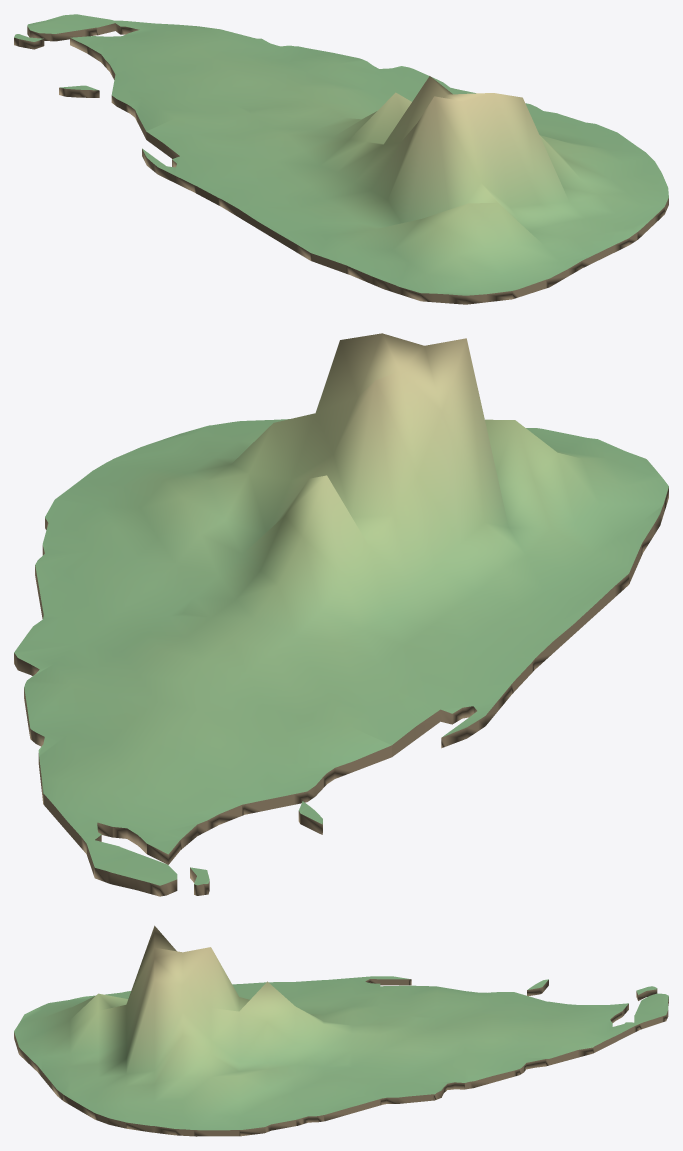
The model's file is LKA.glb.
3 renders of one model, top to bottom at view 1: azimuth 30°, elevation 25°; view 2: azimuth 150°, elevation 25°; view 3: azimuth 270°, elevation 25°, orthographic. The views are drawn at different scales.
Parts seen in each view (by area): view 1: LKA; view 2: LKA; view 3: LKA.
Boxes of the visible parts, left/top/right/bottom form: LKA: left=14, top=14, right=668, bottom=304; LKA: left=14, top=333, right=668, bottom=896; LKA: left=14, top=925, right=668, bottom=1136.
Bounding box in the file's own units: 0.9667 × 0.338 × 1.74.
